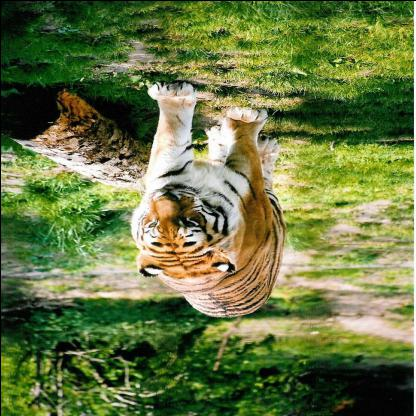tiger: (130, 178, 233, 274)
